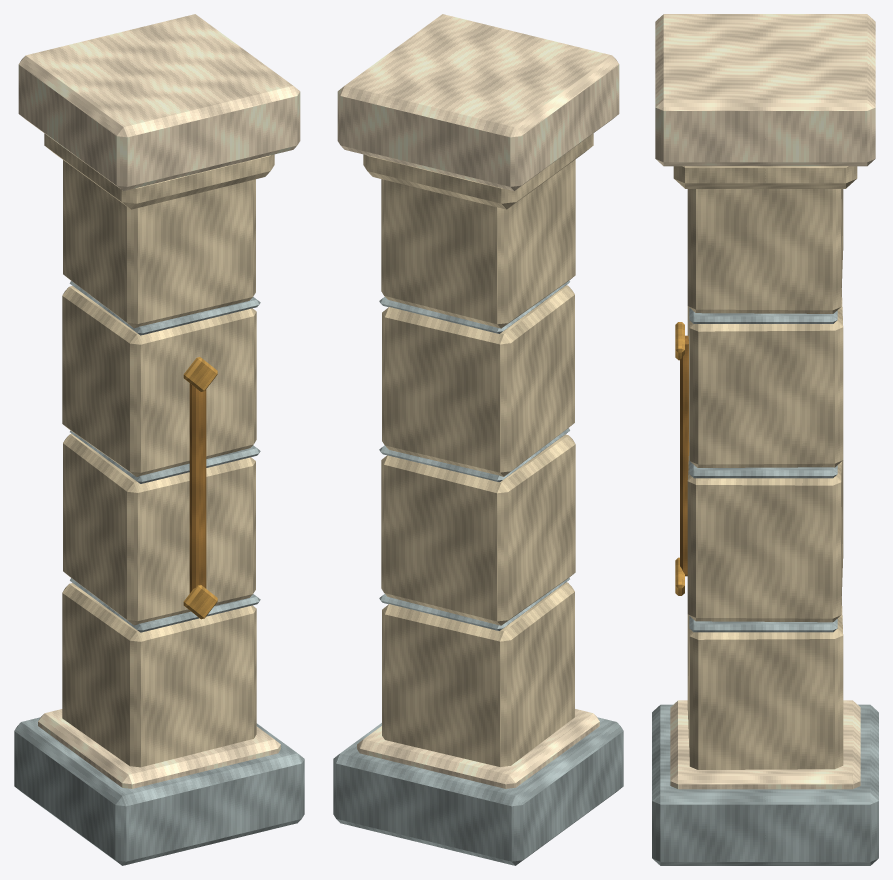
The model's file is ruin_pillar.glb.
The picture shows the model from 3 angles, left to right: view 1: azimuth 30°, elevation 25°; view 2: azimuth 150°, elevation 25°; view 3: azimuth 270°, elevation 25°; orthographic projection. The views are drawn at different scales.
Parts seen in each view (by area): view 1: Capital, Pillar_section, Pillar_section.002, Pillar_section.001, Pillar_section.003, Plinth, Lower_molding, Capital_molding, Bronze_inlay, Settled_joint.002, Settled_joint, Settled_joint.001 (+2 smaller); view 2: Capital, Pillar_section.001, Pillar_section.002, Pillar_section, Pillar_section.003, Plinth, Lower_molding, Capital_molding, Settled_joint.002, Settled_joint.001, Settled_joint; view 3: Capital, Pillar_section.001, Pillar_section.002, Pillar_section, Plinth, Pillar_section.003, Lower_molding, Capital_molding, Bronze_inlay, Settled_joint.001, Settled_joint, Settled_joint.002.
Boxes of the visible parts, left/top/right/bottom form: Capital: left=18, top=14, right=300, bottom=191; Pillar_section: left=62, top=583, right=256, bottom=767; Pillar_section.002: left=62, top=286, right=256, bottom=476; Pillar_section.001: left=63, top=433, right=255, bottom=625; Pillar_section.003: left=63, top=160, right=255, bottom=328; Plinth: left=14, top=717, right=304, bottom=865; Lower_molding: left=38, top=709, right=280, bottom=788; Capital_molding: left=44, top=133, right=274, bottom=209; Bronze_inlay: left=189, top=383, right=206, bottom=593; Settled_joint.002: left=69, top=281, right=260, bottom=335; Settled_joint: left=70, top=578, right=260, bottom=632; Settled_joint.001: left=70, top=430, right=260, bottom=483; Capital: left=337, top=14, right=619, bottom=191; Pillar_section.001: left=381, top=434, right=575, bottom=625; Pillar_section.002: left=382, top=285, right=574, bottom=476; Pillar_section: left=382, top=582, right=574, bottom=766; Pillar_section.003: left=381, top=159, right=575, bottom=328; Plinth: left=333, top=717, right=623, bottom=865; Lower_molding: left=357, top=709, right=599, bottom=788; Capital_molding: left=363, top=133, right=593, bottom=209; Settled_joint.002: left=379, top=280, right=569, bottom=333; Settled_joint.001: left=379, top=428, right=569, bottom=482; Settled_joint: left=379, top=578, right=569, bottom=630; Capital: left=655, top=14, right=875, bottom=166; Pillar_section.001: left=687, top=456, right=843, bottom=622; Pillar_section.002: left=687, top=288, right=843, bottom=467; Pillar_section: left=687, top=597, right=843, bottom=769; Plinth: left=652, top=704, right=878, bottom=865; Pillar_section.003: left=687, top=189, right=843, bottom=313; Lower_molding: left=670, top=700, right=860, bottom=789; Capital_molding: left=673, top=166, right=857, bottom=188; Bronze_inlay: left=680, top=335, right=689, bottom=576; Settled_joint.001: left=689, top=452, right=837, bottom=478; Settled_joint: left=689, top=616, right=837, bottom=632; Settled_joint.002: left=689, top=308, right=837, bottom=323.
Bounding box in the file's own units: 0.68 × 2.53 × 0.68.
5 materials, 5 textured.
